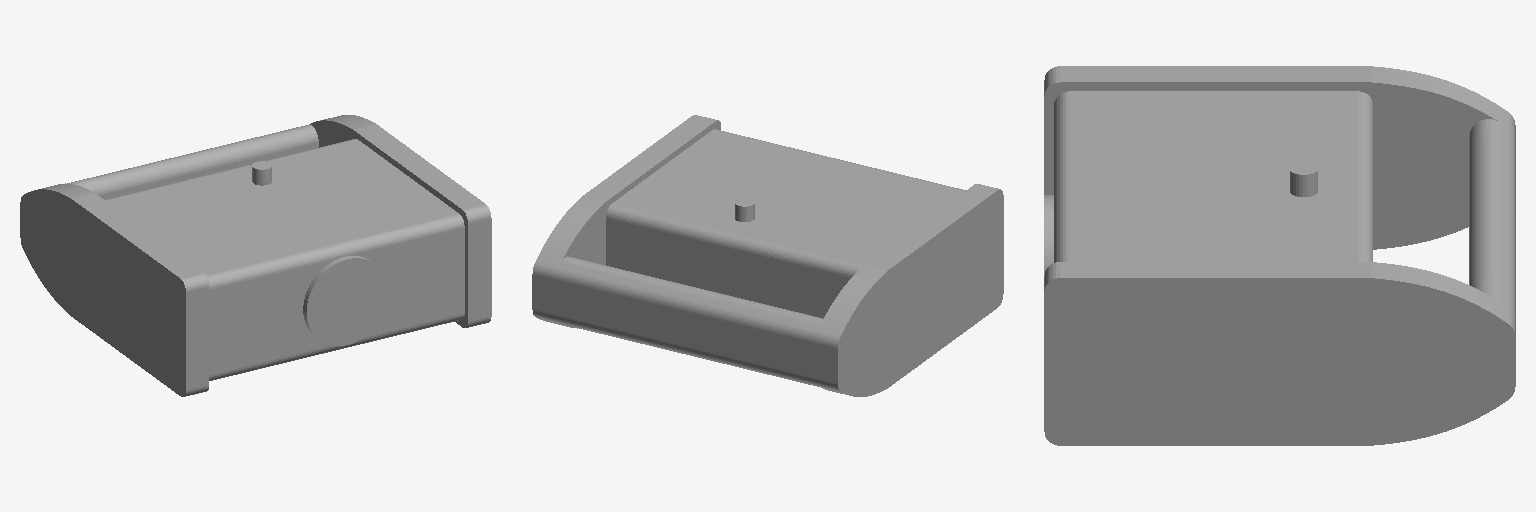
robot.urdf — rt_rb10_1300e:
<?xml version="1.0"?>
<!-- =================================================================================== -->
<!-- |    This document was autogenerated by xacro from rb10_1300e.urdf.xacro          | -->
<!-- |    EDITING THIS FILE BY HAND IS NOT RECOMMENDED                                 | -->
<!-- =================================================================================== -->
<robot name="rt_rb10_1300e">
  <link name="rt_link0">
    <visual>
      <geometry>
        <mesh filename="./meshes/rb10_1300e/visual/link0.dae" />
      </geometry>
    </visual>
    <collision>
      <geometry>
        <mesh filename="./meshes/rb10_1300e/collision/link0.stl" />
      </geometry>
    </collision>
  </link>
  <link name="rt_link1">
    <visual>
      <geometry>
        <mesh filename="./meshes/rb10_1300e/visual/link1.dae" />
      </geometry>
    </visual>
    <collision>
      <geometry>
        <mesh filename="./meshes/rb10_1300e/collision/link1.stl" />
      </geometry>
    </collision>
    <inertial>
      <origin rpy="0 0 0" xyz="0.000021 -0.007855 -0.042537" />
      <mass value="8.366" />
      <inertia ixx="0.027403652" ixy="-5.926e-06" ixz="-1.0119e-05" iyy="0.027770573"
        iyz="0.003030512" izz="0.026140211" />
    </inertial>
  </link>
  <link name="rt_link2">
    <visual>
      <geometry>
        <mesh filename="./meshes/rb10_1300e/visual/link2.dae" />
      </geometry>
    </visual>
    <collision>
      <geometry>
        <mesh filename="./meshes/rb10_1300e/collision/link2.stl" />
      </geometry>
    </collision>
    <inertial>
      <origin rpy="0 0 0" xyz="-0.000013 -0.155462 0.225241" />
      <mass value="15.61" />
      <inertia ixx="1.140650644" ixy="-1.3042e-05" ixz="-6.7084e-05" iyy="1.134398623"
        iyz="0.024507884" izz="0.050849068" />
    </inertial>
  </link>
  <link name="rt_link3">
    <visual>
      <geometry>
        <mesh filename="./meshes/rb10_1300e/visual/link3.dae" />
      </geometry>
    </visual>
    <collision>
      <geometry>
        <mesh filename="./meshes/rb10_1300e/collision/link3.stl" />
      </geometry>
    </collision>
    <inertial>
      <origin rpy="0 0 0" xyz="-0.000048 -0.013885 0.325013" />
      <mass value="5.69" />
      <inertia ixx="0.312033029" ixy="9.298e-06" ixz="1.169e-05" iyy="0.311287646" iyz="0.005331552"
        izz="0.011397824" />
    </inertial>
  </link>
  <link name="rt_link4">
    <visual>
      <geometry>
        <mesh filename="./meshes/rb10_1300e/visual/link4.dae" />
      </geometry>
    </visual>
    <collision>
      <geometry>
        <mesh filename="./meshes/rb10_1300e/collision/link4.stl" />
      </geometry>
    </collision>
    <inertial>
      <origin rpy="0 0 0" xyz="0.000093 -0.113949 0.026461" />
      <mass value="2.062" />
      <inertia ixx="0.0027111" ixy="-8.022e-06" ixz="1.1208e-05" iyy="0.002715407" iyz="0.000144243"
        izz="0.002157043" />
    </inertial>
  </link>
  <link name="rt_link5">
    <visual>
      <geometry>
        <mesh filename="./meshes/rb10_1300e/visual/link5.dae" />
      </geometry>
    </visual>
    <collision>
      <geometry>
        <mesh filename="./meshes/rb10_1300e/collision/link5.stl" />
      </geometry>
    </collision>
    <inertial>
      <origin rpy="0 0 0" xyz="-0.000093 -0.026434 -0.003233" />
      <mass value="2.061" />
      <inertia ixx="0.002706437" ixy="1.1205e-05" ixz="-8.016e-06" iyy="0.002153592"
        iyz="0.000141528" izz="0.002712272" />
    </inertial>
  </link>
  <link name="rt_link6">
    <visual>
      <geometry>
        <mesh filename="./meshes/rb10_1300e/visual/link6.dae" />
      </geometry>
    </visual>
    <collision>
      <geometry>
        <mesh filename="./meshes/rb10_1300e/collision/link6.stl" />
      </geometry>
    </collision>
    <inertial>
      <origin rpy="0 0 0" xyz="-0.000210 -0.092540 -0.000292" />
      <mass value="0.406" />
      <inertia ixx="0.000345314" ixy="5.73e-07" ixz="6.61e-07" iyy="0.000532873" iyz="-5.4e-08"
        izz="0.000340021" />
    </inertial>
  </link>
  <link name="rt_link_end">
    <inertial>
      <origin xyz="4.07134260806985e-05 -0.14311080297190015 2.6070581174467356e-05" rpy="0 0 0" />
      <mass value="33.803183177691814" />
      <inertia ixx="0.150633" iyy="0.230106" izz="0.339619" ixy="0.000105" iyz="-2.9e-05"
        ixz="-1.1e-05" />
    </inertial>
    <visual>
      <origin xyz="-0.0 0.1163 -0.0" rpy="0 0 0" />
      <geometry>
        <mesh filename="./meshes/link_rt.stl" scale="0.001 0.001 0.001" />
      </geometry>
      <material name="silver" />
    </visual>
    <collision>
      <origin xyz="-0.0 0.1163 -0.0" rpy="0 0 0" />
      <geometry>
        <mesh filename="./meshes/link_rt.stl" scale="0.001 0.001 0.001" />
      </geometry>
    </collision>
  </link>
  <link name="rt_link_tcp" />
  <joint name="rt_joint_base" type="revolute">
    <origin rpy="0 0 0" xyz="0 0 0" />
    <parent link="rt_link0" />
    <child link="rt_link1" />
    <axis xyz="0 0 1" />
    <limit effort="10" lower="-3.14" upper="3.14" velocity="3.14" />
  </joint>
  <joint name="rt_joint_shoulder" type="revolute">
    <origin rpy="0 0 0" xyz="0 0 0.197" />
    <parent link="rt_link1" />
    <child link="rt_link2" />
    <axis xyz="0 1 0" />
    <limit effort="10" lower="-3.14" upper="3.14" velocity="3.14" />
  </joint>
  <joint name="rt_joint_elbow" type="revolute">
    <origin rpy="0 0 0" xyz="0 -0.1875 0.6127" />
    <parent link="rt_link2" />
    <child link="rt_link3" />
    <axis xyz="0 1 0" />
    <limit effort="10" lower="-3.14" upper="3.14" velocity="3.14" />
  </joint>
  <joint name="rt_joint_wrist1" type="revolute">
    <origin rpy="0 0 0" xyz="0 0.1484 0.57015" />
    <parent link="rt_link3" />
    <child link="rt_link4" />
    <axis xyz="0 1 0" />
    <limit effort="10" lower="-3.14" upper="3.14" velocity="3.14" />
  </joint>
  <joint name="rt_joint_wrist2" type="revolute">
    <origin rpy="0 0 0" xyz="0 -0.11715 0" />
    <parent link="rt_link4" />
    <child link="rt_link5" />
    <axis xyz="0 0 1" />
    <limit effort="10" lower="-3.14" upper="3.14" velocity="3.14" />
  </joint>
  <joint name="rt_joint_wrist3" type="revolute">
    <origin rpy="0 0 0" xyz="0 0 0.11715" />
    <parent link="rt_link5" />
    <child link="rt_link6" />
    <axis xyz="0 1 0" />
    <limit effort="10" lower="-3.14" upper="3.14" velocity="3.14" />
  </joint>
  <joint name="rt_joint_end" type="fixed">
    <origin xyz="0.0 -0.1163 0.0" rpy="0 0 0" />
    <parent link="rt_link6" />
    <child link="rt_link_end" />
  </joint>
  <joint name="rt_joint_tcp" type="fixed">
    <origin xyz="0.007501 -0.2451 0.0" rpy="0 0 -1.57" />
    <parent link="rt_link_end" />
    <child link="rt_link_tcp" />
  </joint>
</robot>

--- Facts derived from the render (not from the file) ---
The picture shows the robot from 3 angles, left to right: view 1: azimuth 30°, elevation 25°; view 2: azimuth 150°, elevation 25°; view 3: azimuth 270°, elevation 25°; orthographic projection.
Model rt_rb10_1300e with 9 links and 8 joints (6 revolute, 2 fixed), rooted at rt_link0, posed all joints at 0.
Links seen in each view (by area): view 1: rt_link_end; view 2: rt_link_end; view 3: rt_link_end.
Link boxes in pixels (x1,y1,x2,y2): rt_link_end: (20, 115, 491, 396); rt_link_end: (532, 115, 1003, 396); rt_link_end: (1044, 66, 1515, 445).
Size in the robot's own frame: 0.261 by 0.2451 by 0.104 metres.
1 mesh visuals loaded from 8 distinct referenced files (1 binary STL); not drawn: 7 (reference not matched to a file when rendering).